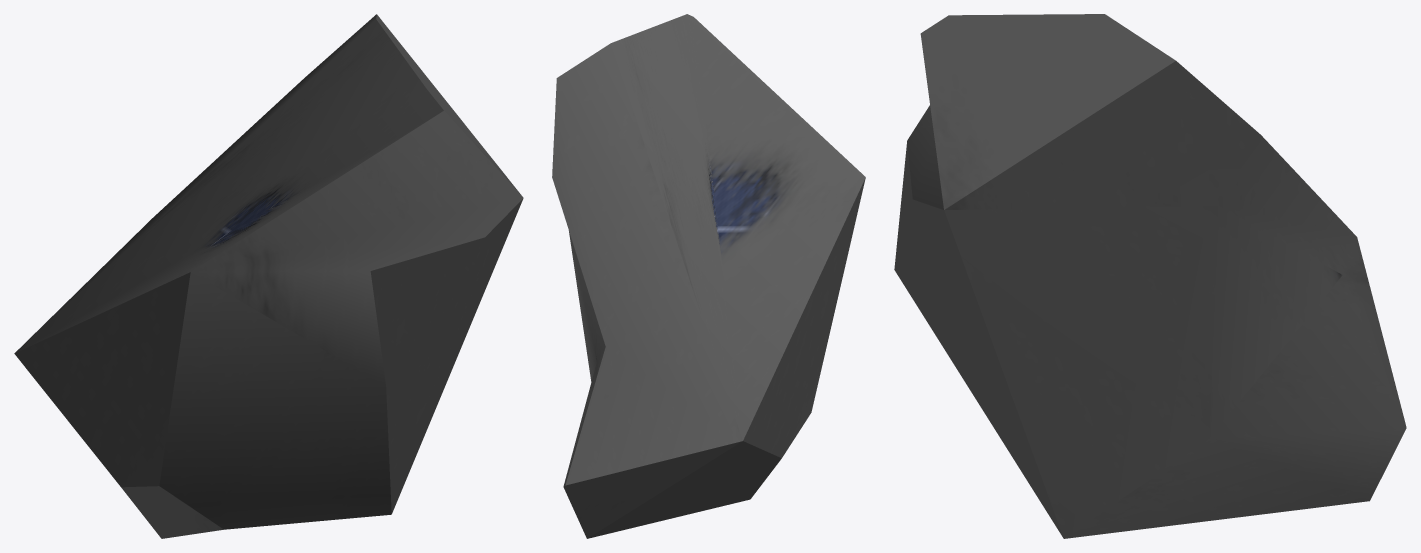
The model's file is PedraGrand.fbx.
The picture shows the model from 3 angles, left to right: view 1: azimuth 30°, elevation 25°; view 2: azimuth 150°, elevation 25°; view 3: azimuth 270°, elevation 25°; orthographic projection. The views are drawn at different scales.
Visible parts, largest first — view 1: Pedra2; view 2: Pedra2; view 3: Pedra2.
Boxes of the visible parts, x1,y1,x2,y2 form: Pedra2: (14, 14, 523, 538); Pedra2: (552, 14, 865, 538); Pedra2: (894, 14, 1406, 538).
Bounding box in the file's own units: 134 × 187 × 162.
